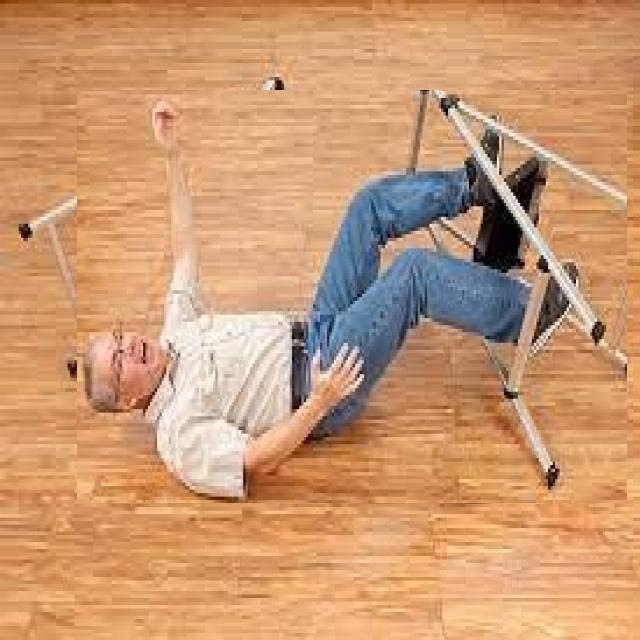Fall: (70, 150, 584, 530)
